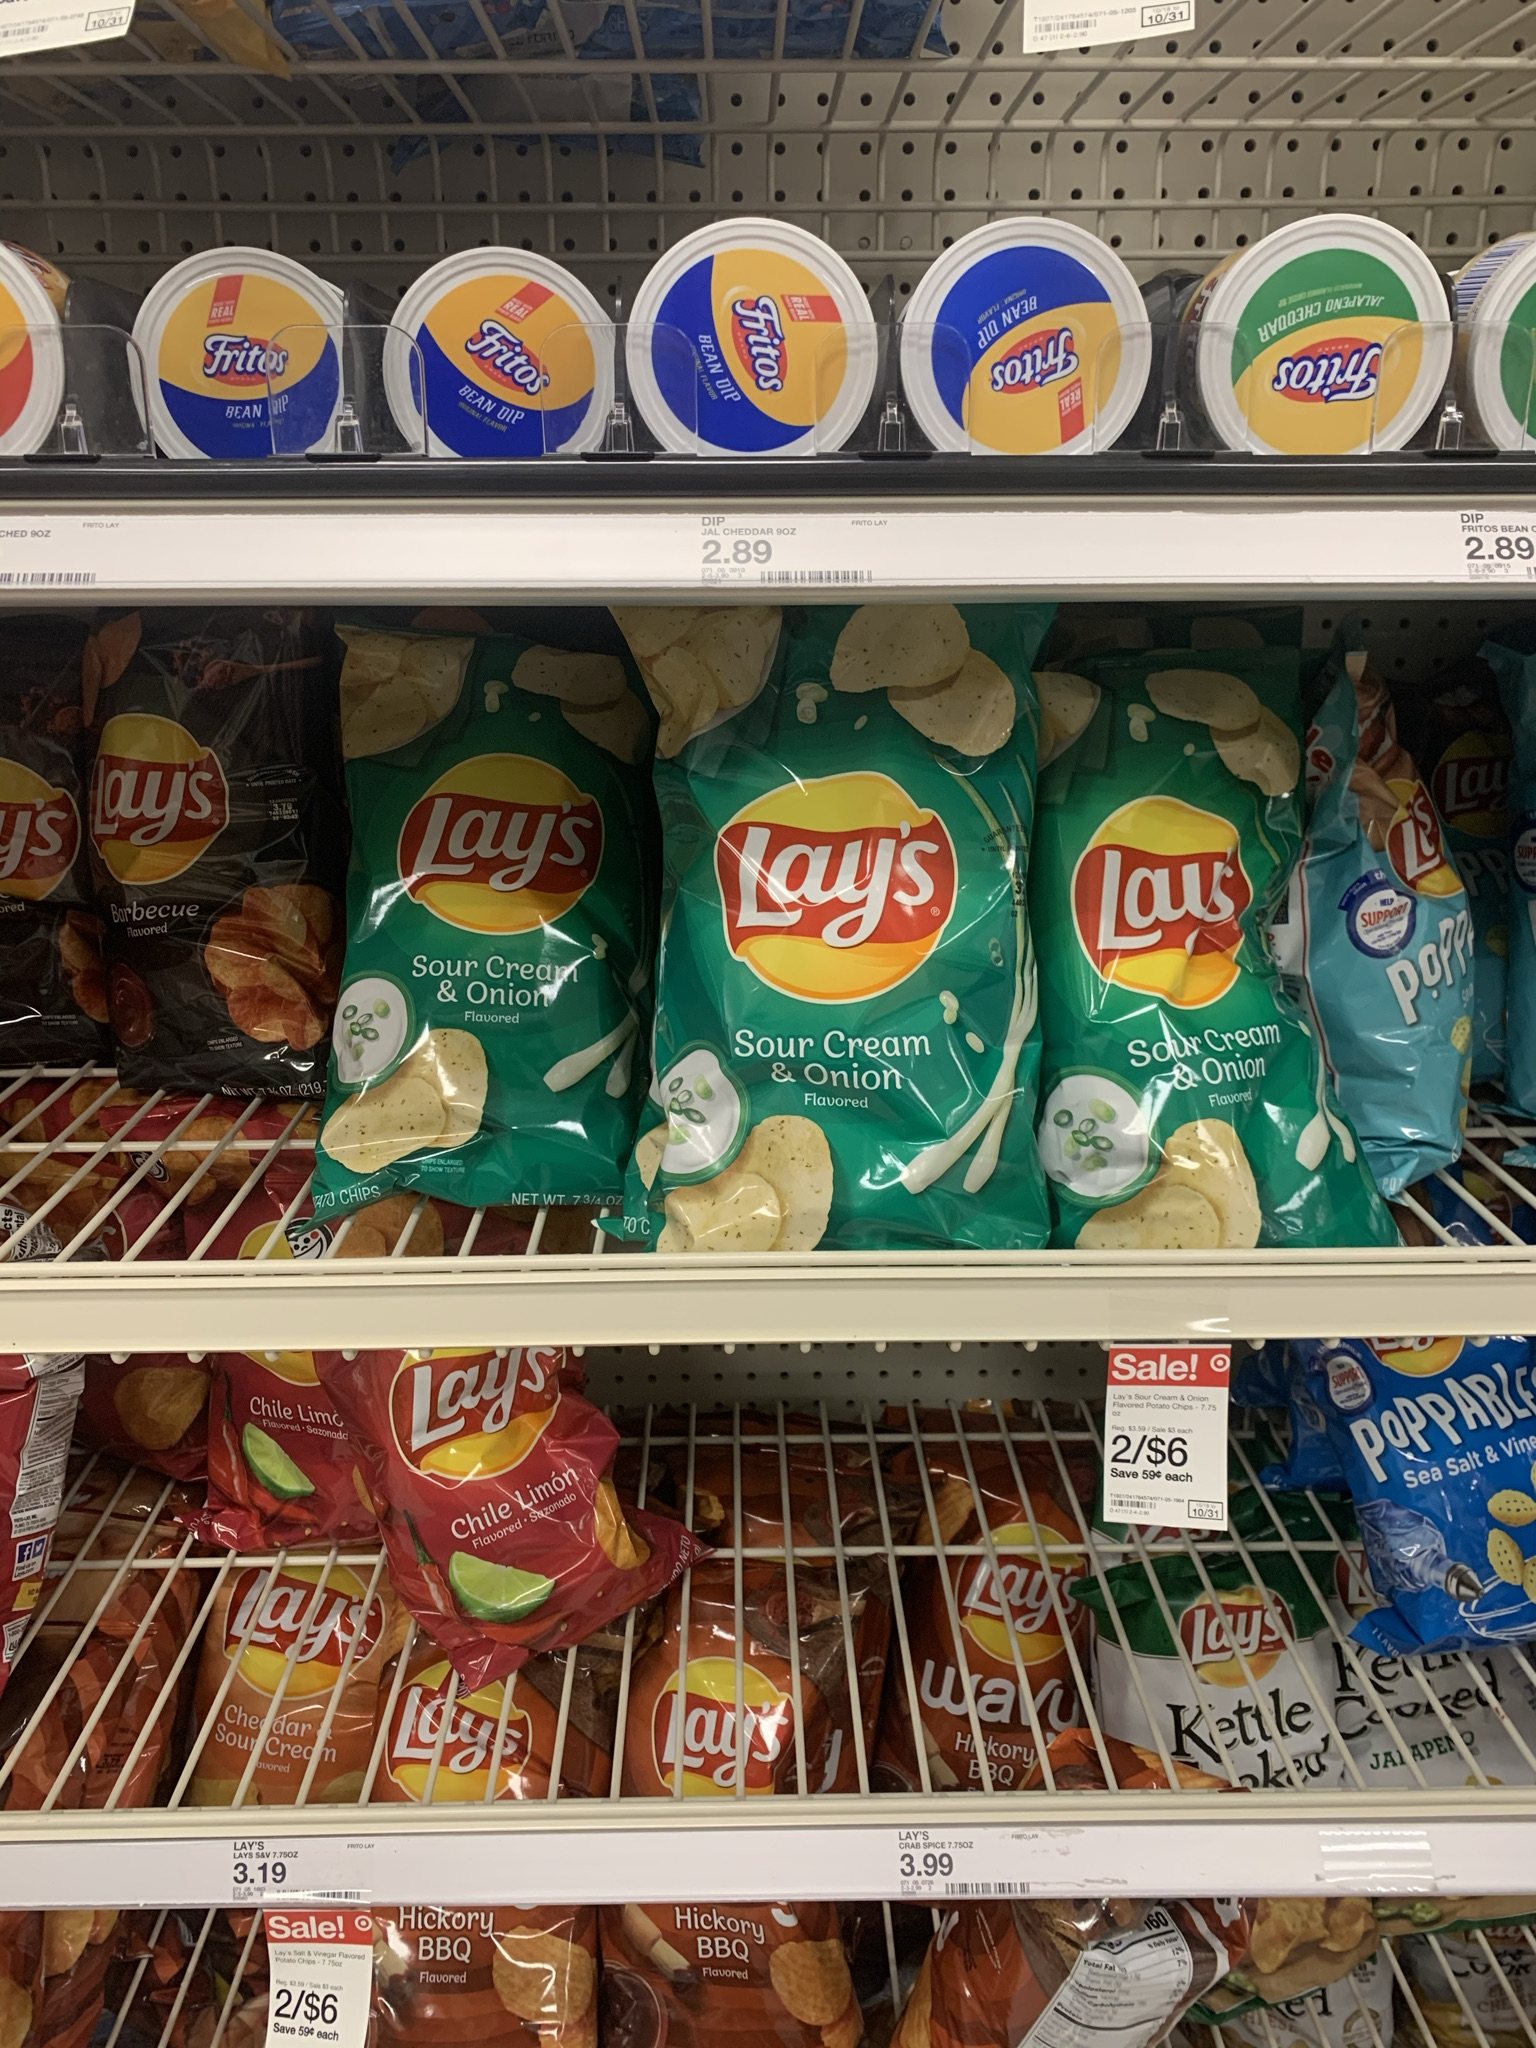lays: (657, 605, 1070, 1250), (357, 656, 642, 1171), (1089, 666, 1325, 1255), (92, 651, 339, 1066), (392, 1359, 639, 1629), (942, 1534, 1066, 1850), (1149, 1600, 1354, 1750), (657, 1656, 829, 1804), (408, 1675, 565, 1787), (234, 1571, 387, 1674)
